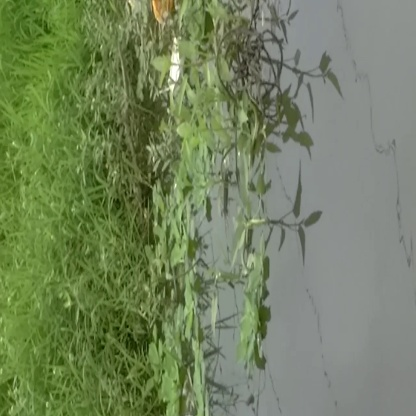grass: (223, 234, 287, 370)
